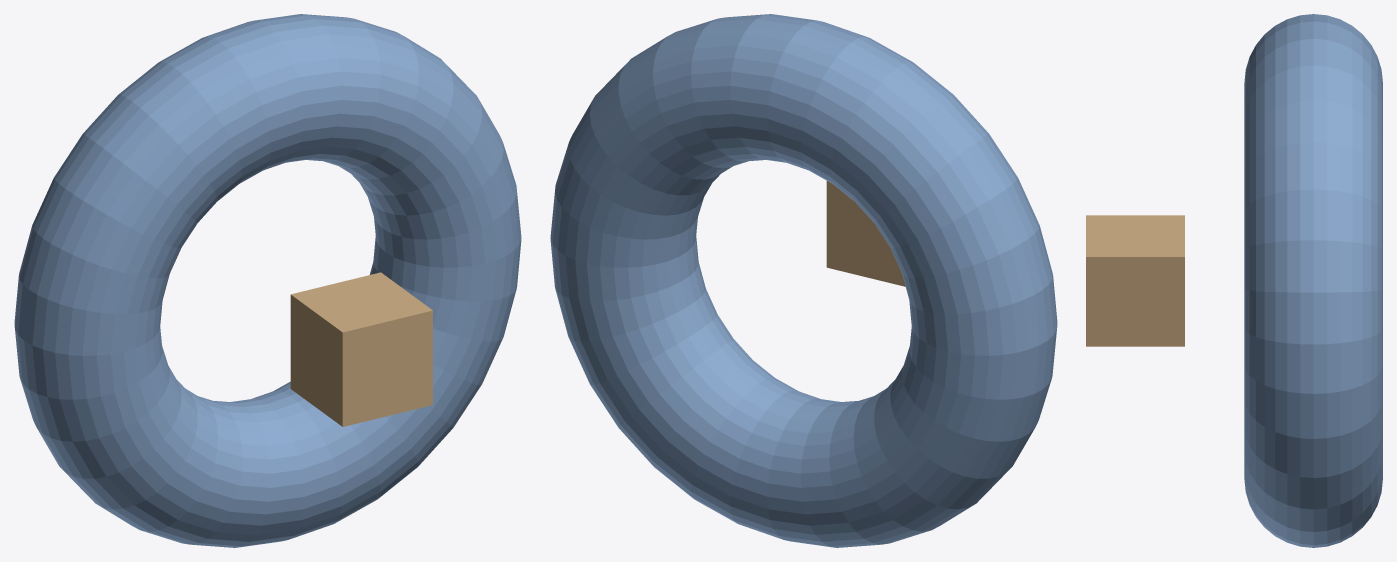
The model's file is sample-model.glb.
3 views of the same model, side by side, from view 1: azimuth 30°, elevation 25°; view 2: azimuth 150°, elevation 25°; view 3: azimuth 270°, elevation 25° (orthographic). The views are drawn at different scales.
Visible parts, largest first — view 1: world; view 2: world; view 3: world.
Part boxes in pixels (left/top/right/bottom): world: left=14, top=14, right=521, bottom=547; world: left=550, top=14, right=1057, bottom=547; world: left=1086, top=14, right=1382, bottom=547.
Size of the model in its own units: 2.7 by 2.7 by 1.5.
